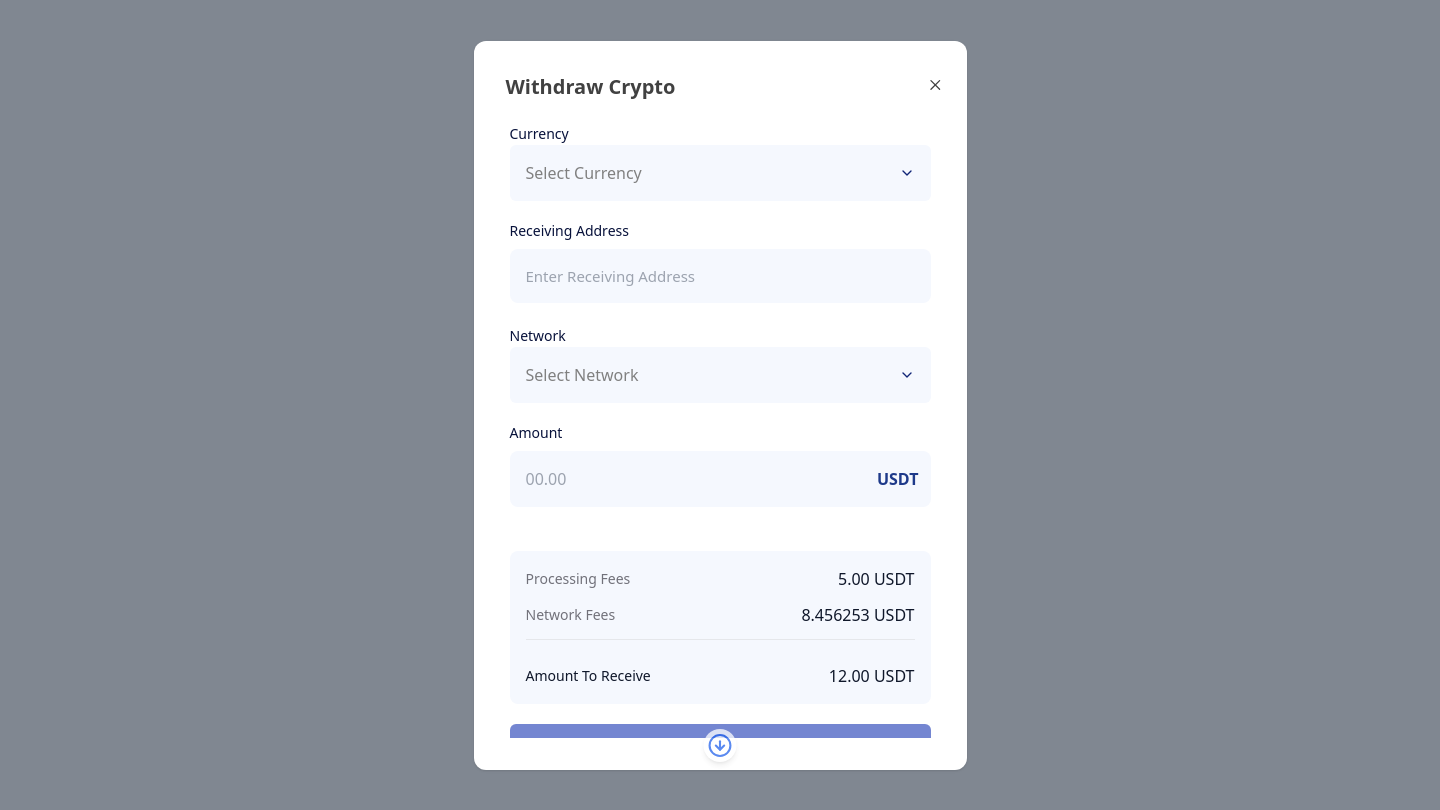
Test: Withdraw page end-to-end validations › shows insufficient balance when amount exceeds available balance
The width and height of the screenshot is (1440, 810).
Click the element with test id "Select Currency": (720, 172) [510,144,930,200]
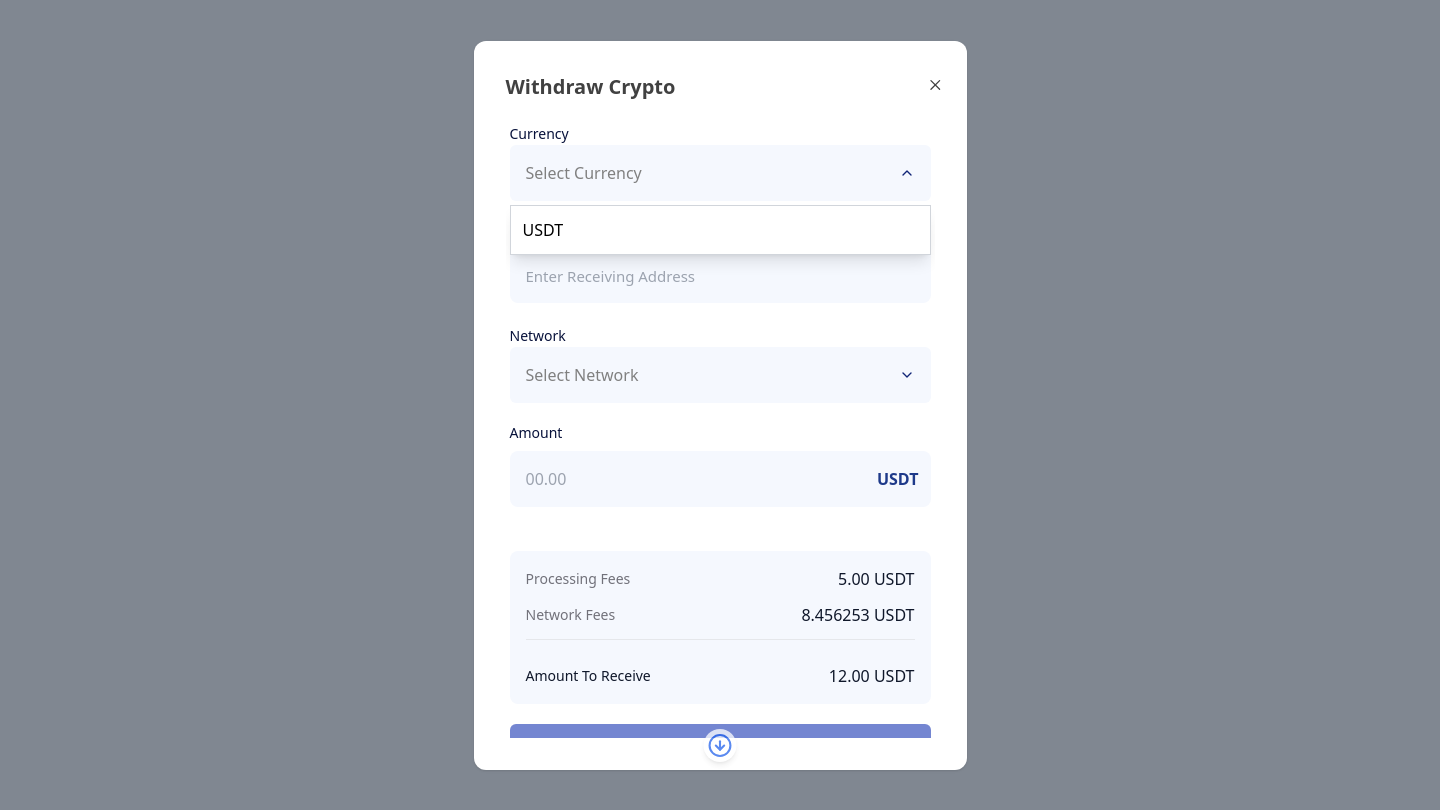
Click the list item with test id "USDT button": (543, 230) [522,218,563,240]
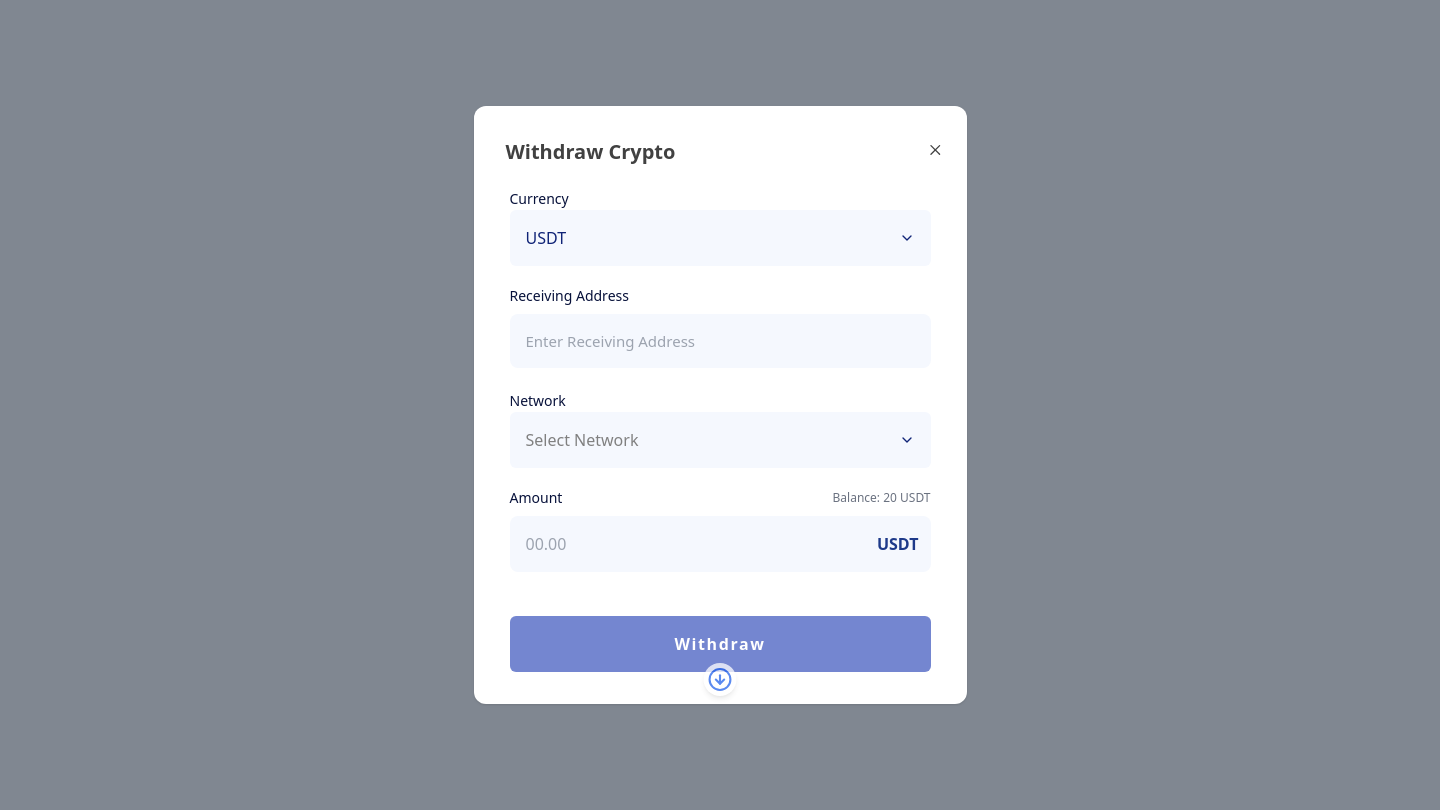
In the number field with placeholder "00.00": (720, 544) [510,516,930,572], type "25"
Wait 1000 ms
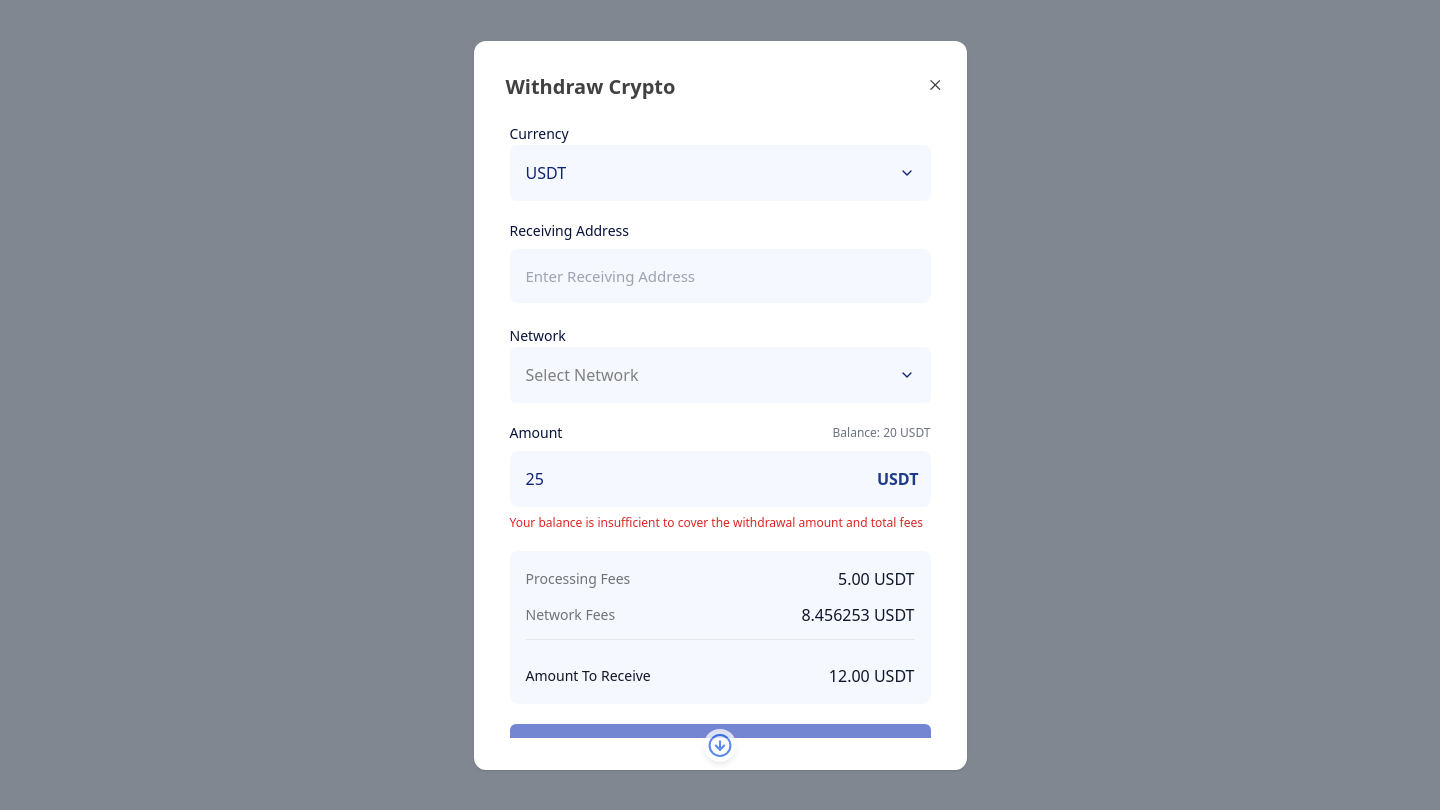
Expected: the text "Your balance is insufficient" is shown, [510,514,923,531]
